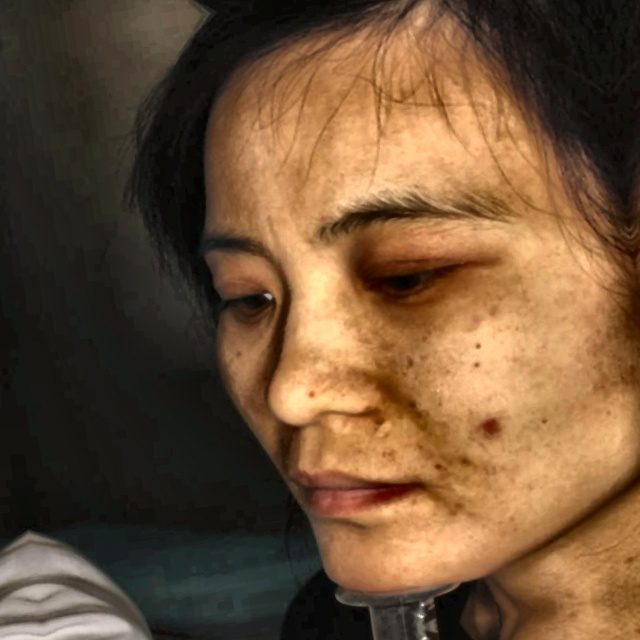comedone: (474, 408, 509, 443)
